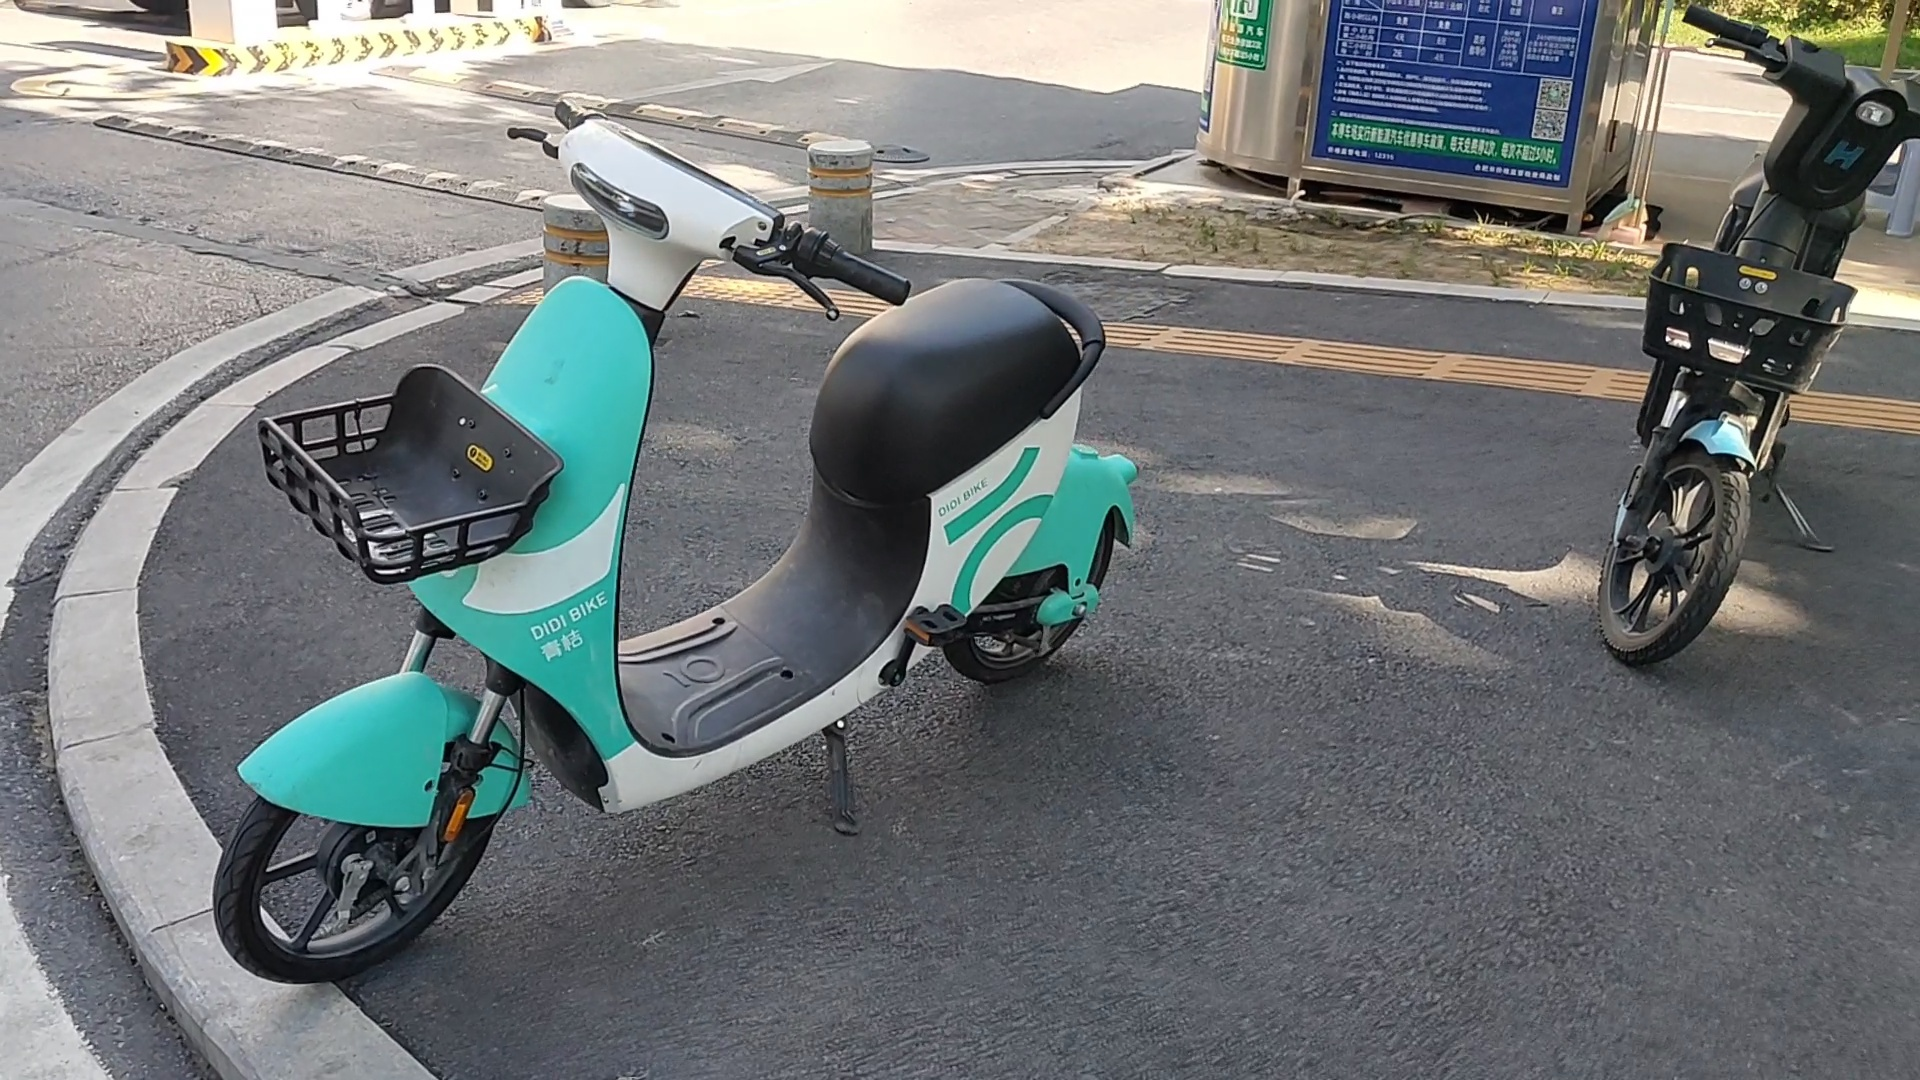non-vehicle: (212, 67, 1160, 1006), (1596, 1, 1917, 669)
